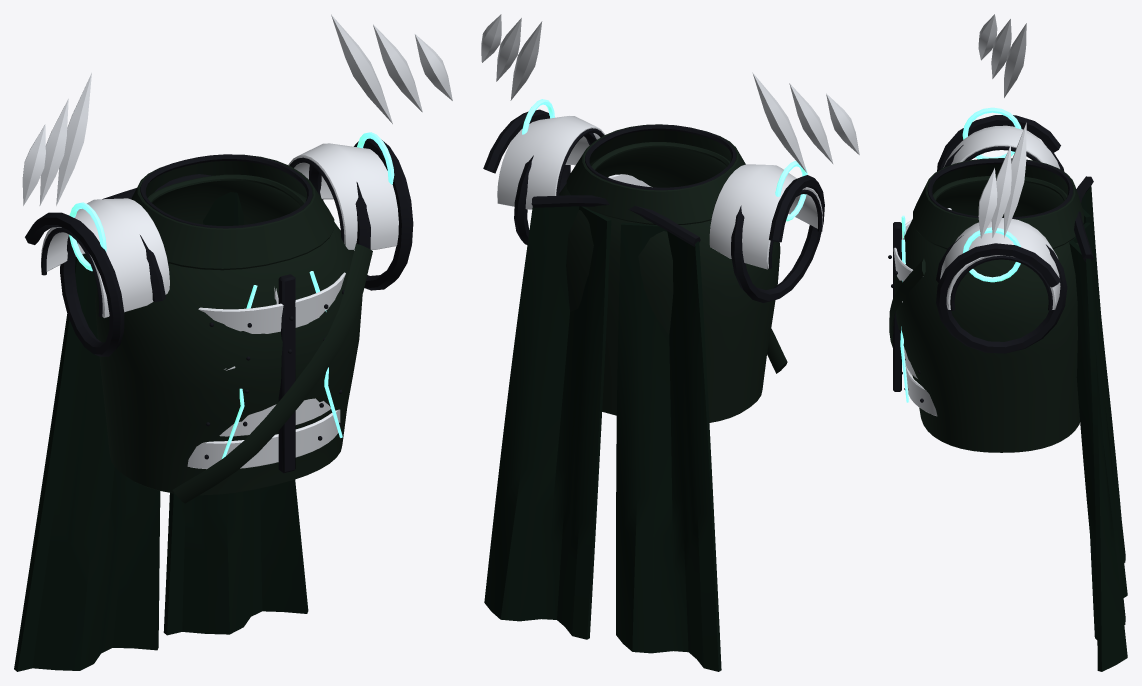
File: esc_worldscar_tracker_armor.glb
3 renders of one model, left to right at view 1: azimuth 30°, elevation 25°; view 2: azimuth 150°, elevation 25°; view 3: azimuth 270°, elevation 25°, orthographic. The views are drawn at different scales.
Parts seen in each view (by area): view 1: esc_worldscar_tracker_armor, AT_upper_arm_R, AT_upper_arm_L; view 2: esc_worldscar_tracker_armor, AT_upper_arm_R, AT_upper_arm_L; view 3: esc_worldscar_tracker_armor, AT_upper_arm_L, AT_upper_arm_R.
Part boxes in pixels (bbox=[...]): esc_worldscar_tracker_armor: bbox=[14, 14, 452, 671]; AT_upper_arm_R: bbox=[25, 198, 169, 356]; AT_upper_arm_L: bbox=[288, 138, 413, 290]; esc_worldscar_tracker_armor: bbox=[481, 14, 859, 671]; AT_upper_arm_R: bbox=[709, 164, 824, 302]; AT_upper_arm_L: bbox=[483, 109, 605, 244]; esc_worldscar_tracker_armor: bbox=[888, 14, 1127, 671]; AT_upper_arm_L: bbox=[936, 218, 1067, 353]; AT_upper_arm_R: bbox=[937, 115, 1064, 171].
Bounding box in the file's own units: 0.9251 × 1.31 × 0.5243.
